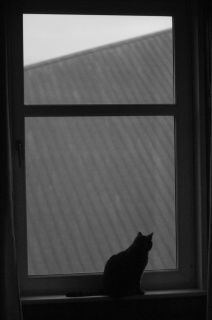Cat: (100, 229, 155, 299)
